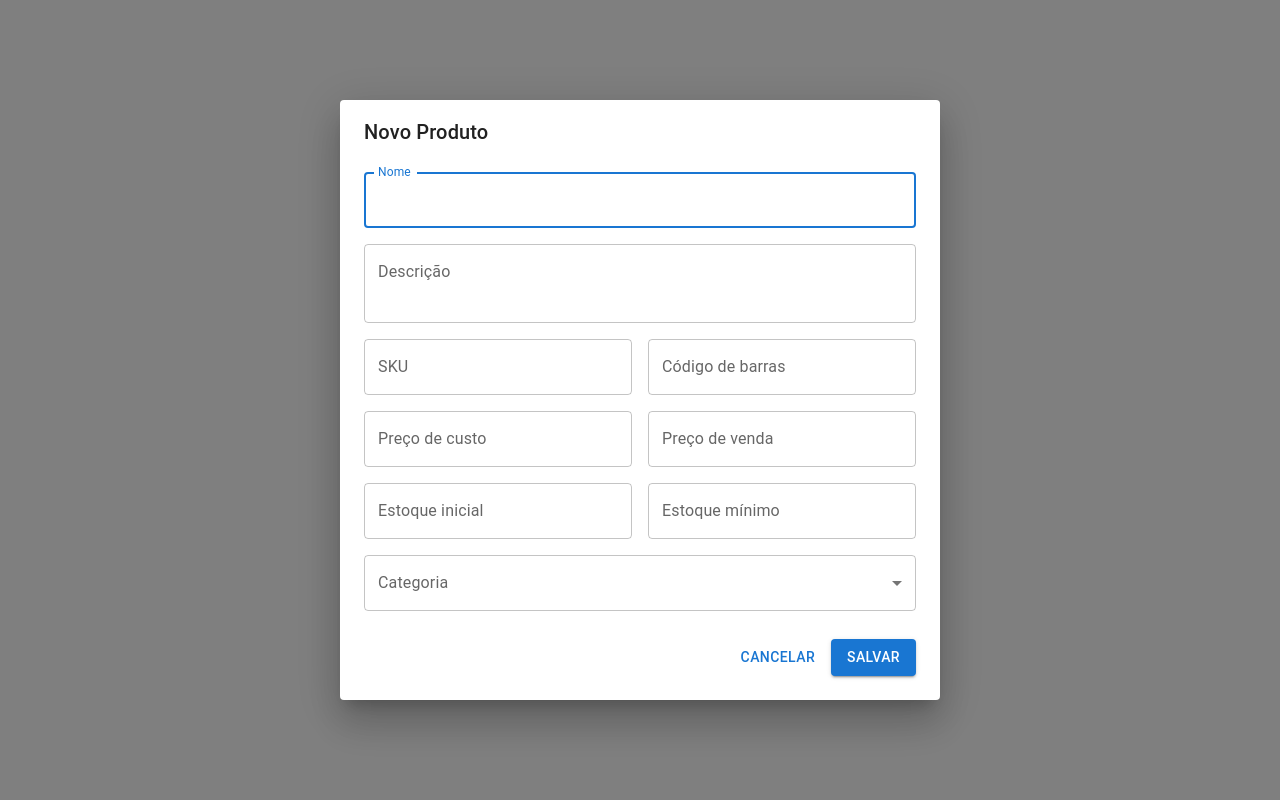
Test: ProductFormDialog › deve exibir mensagens de validação e não enviar, quando campos obrigatórios estão vazios
Click the button "Salvar". click: (874, 658)
box: [831, 639, 916, 676]
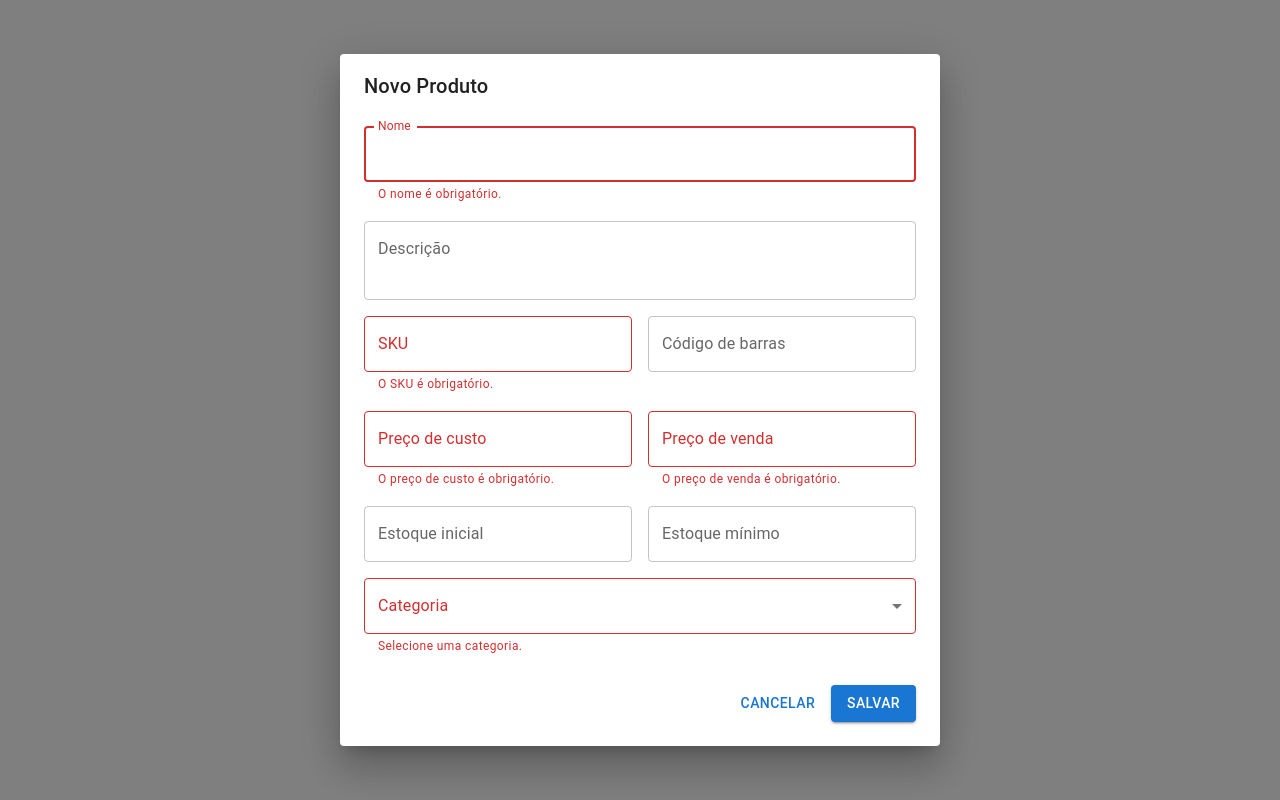
Expected: the text "O nome é obrigatório." is shown, [378, 187, 502, 201]
Expected: the text "O SKU é obrigatório." is shown, [378, 377, 494, 391]
